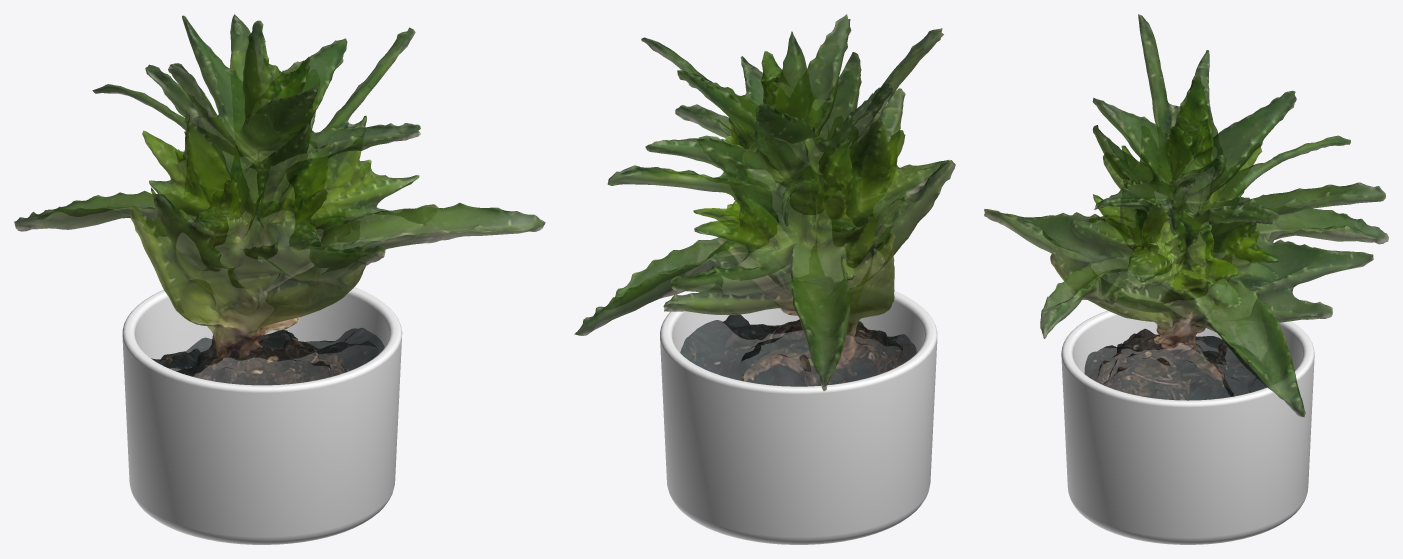
File: alovera_plant_2004_to _render.glb
The picture shows the model from 3 angles, left to right: view 1: azimuth 30°, elevation 25°; view 2: azimuth 150°, elevation 25°; view 3: azimuth 270°, elevation 25°; orthographic projection. The views are drawn at different scales.
Parts seen in each view (by area): view 1: PLANT, POT; view 2: PLANT, POT; view 3: PLANT, POT.
Part boxes in pixels (<box>): PLANT: <box>14,14,545,385</box>; POT: <box>122,287,402,544</box>; PLANT: <box>574,14,955,390</box>; POT: <box>660,291,937,544</box>; PLANT: <box>984,14,1388,417</box>; POT: <box>1061,310,1314,544</box>.
Bounding box in the file's own units: 0.2041 × 0.2729 × 0.231.
Materials: 2 (1 with a texture image).
